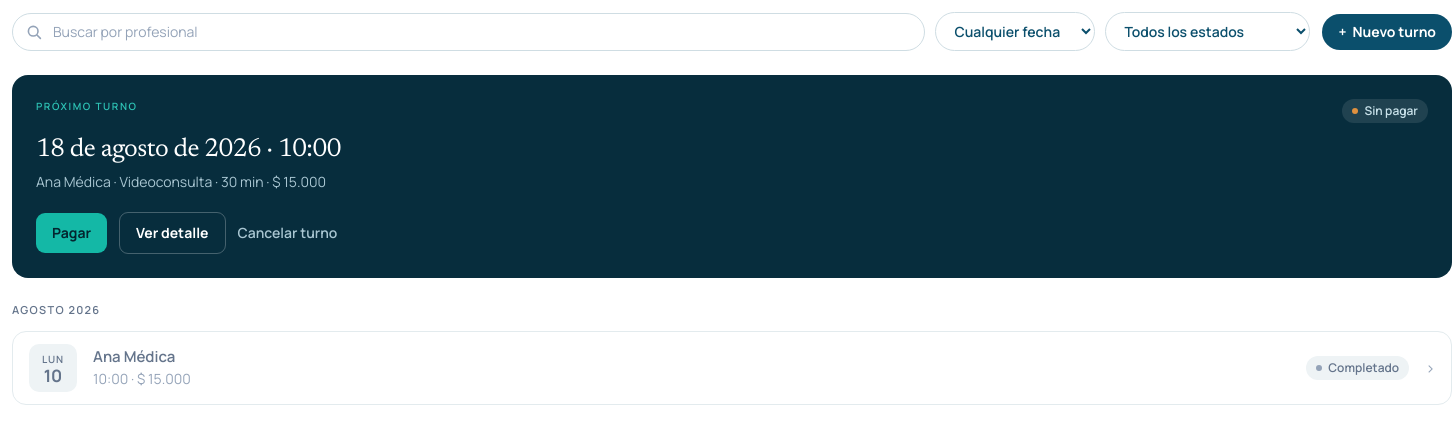
Test: MyAppointments (ENG-178) › filtra por estado
Select "Completados" in the 2nd dropdown named "Estado" at (1208, 32), box [1105,12,1310,51]
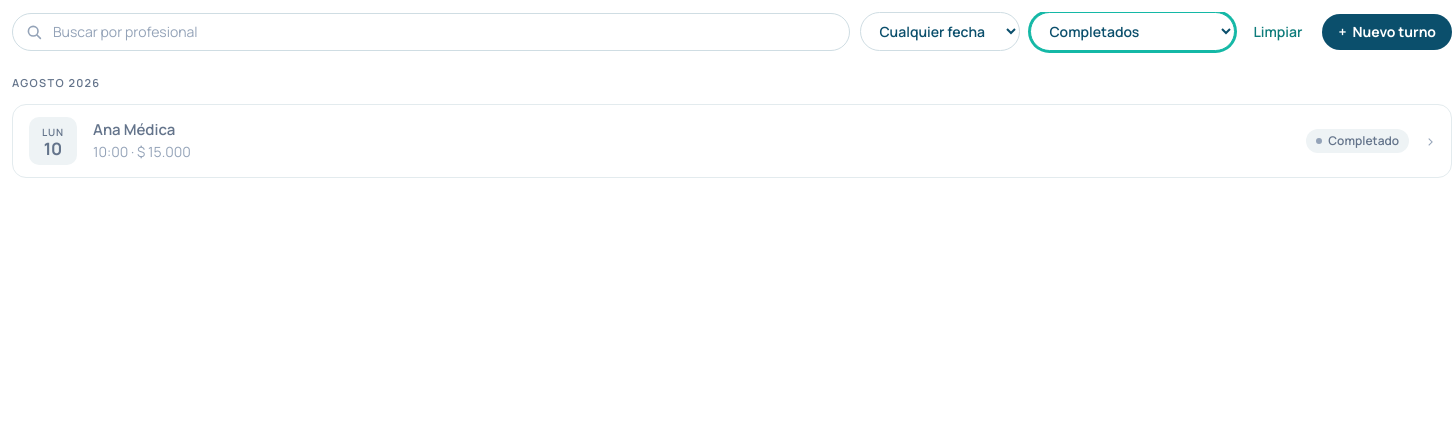
Expected: the element "Agosto 2026" is shown, [12,75,1451,178]
Result: the text "Próximo turno" is gone
